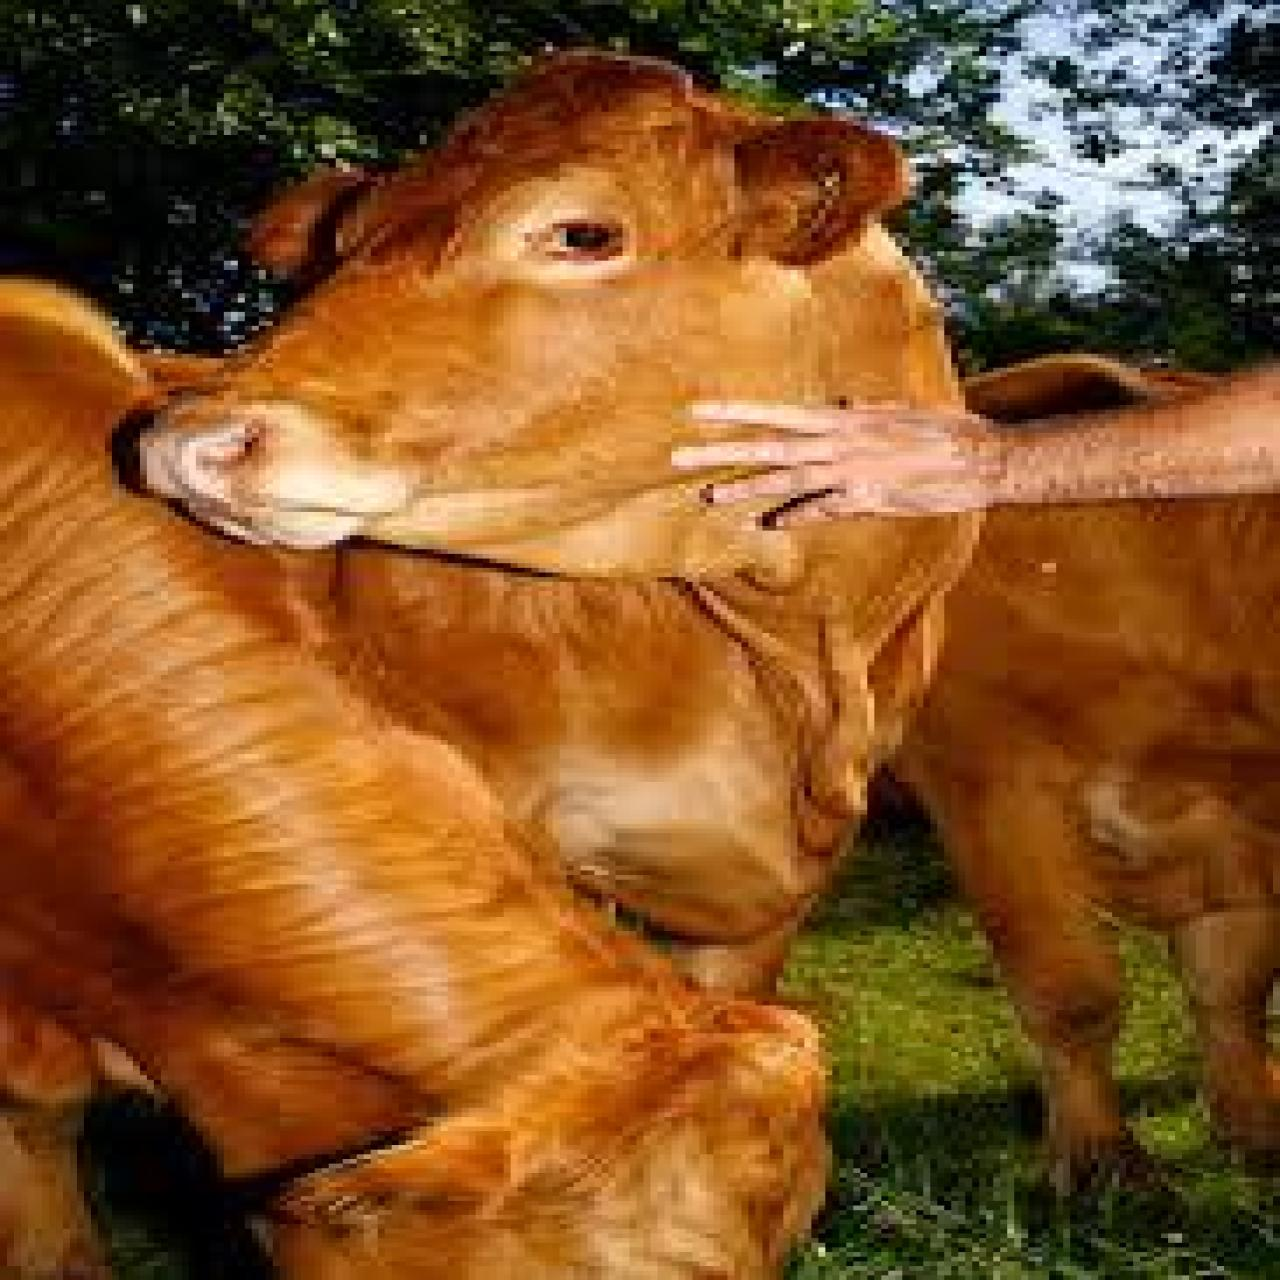cow: (0, 270, 839, 1280), (125, 45, 993, 1017), (881, 347, 1280, 1235)
